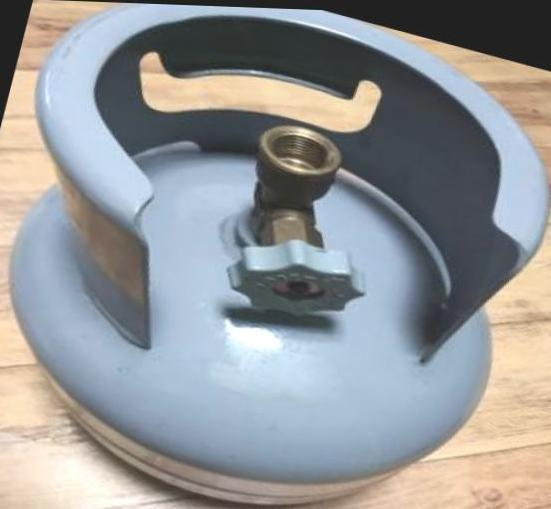cylinder: (1, 1, 551, 509)
